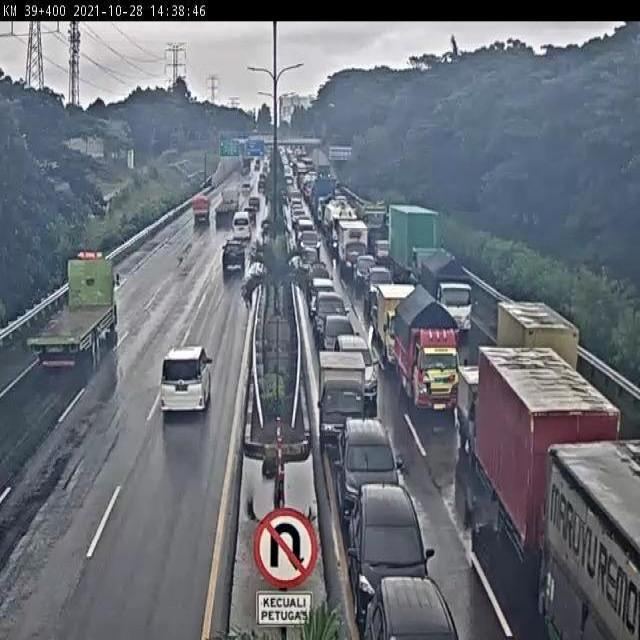car: (349, 486, 436, 618), (335, 419, 399, 531), (363, 577, 460, 640), (159, 343, 214, 415), (335, 336, 380, 403), (319, 315, 360, 369), (312, 291, 350, 343), (367, 265, 395, 308), (309, 276, 334, 316), (221, 240, 248, 273), (355, 255, 376, 288)
truck: (479, 345, 626, 595), (25, 249, 121, 372), (496, 300, 579, 409), (393, 287, 462, 416), (458, 365, 521, 468), (317, 348, 369, 449), (419, 252, 479, 335), (388, 205, 438, 284), (377, 283, 420, 369), (339, 220, 369, 276), (214, 184, 242, 229), (189, 193, 211, 231), (233, 211, 251, 240)
